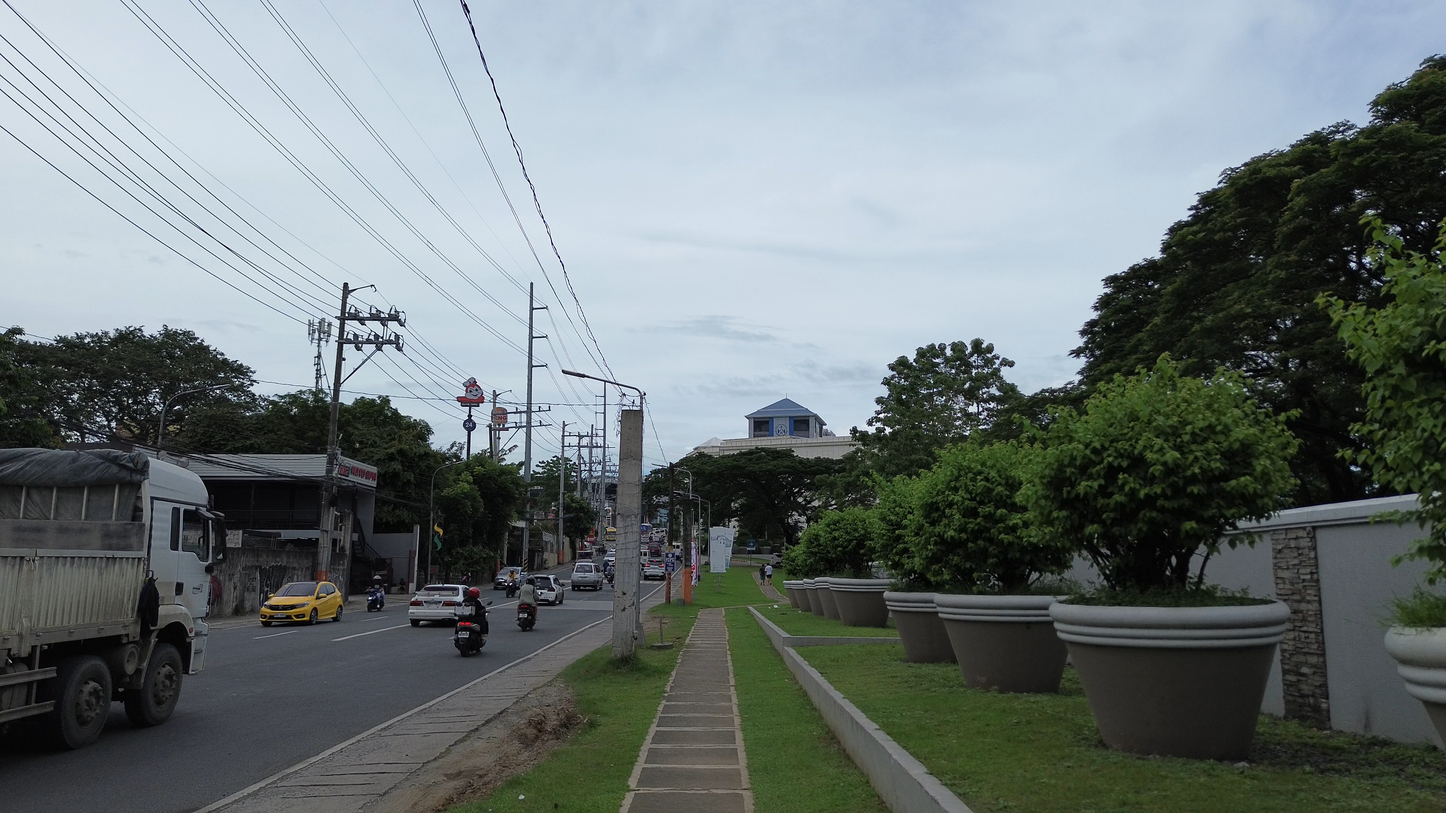car: (260, 582, 343, 626), (408, 585, 467, 626), (570, 561, 604, 590), (533, 575, 564, 604), (494, 566, 527, 589)
motorcycle: (454, 606, 487, 656), (517, 603, 537, 631), (366, 585, 384, 612)
truck: (0, 449, 224, 748)
vehicle: (453, 601, 492, 657), (642, 557, 666, 580), (604, 527, 616, 542)
